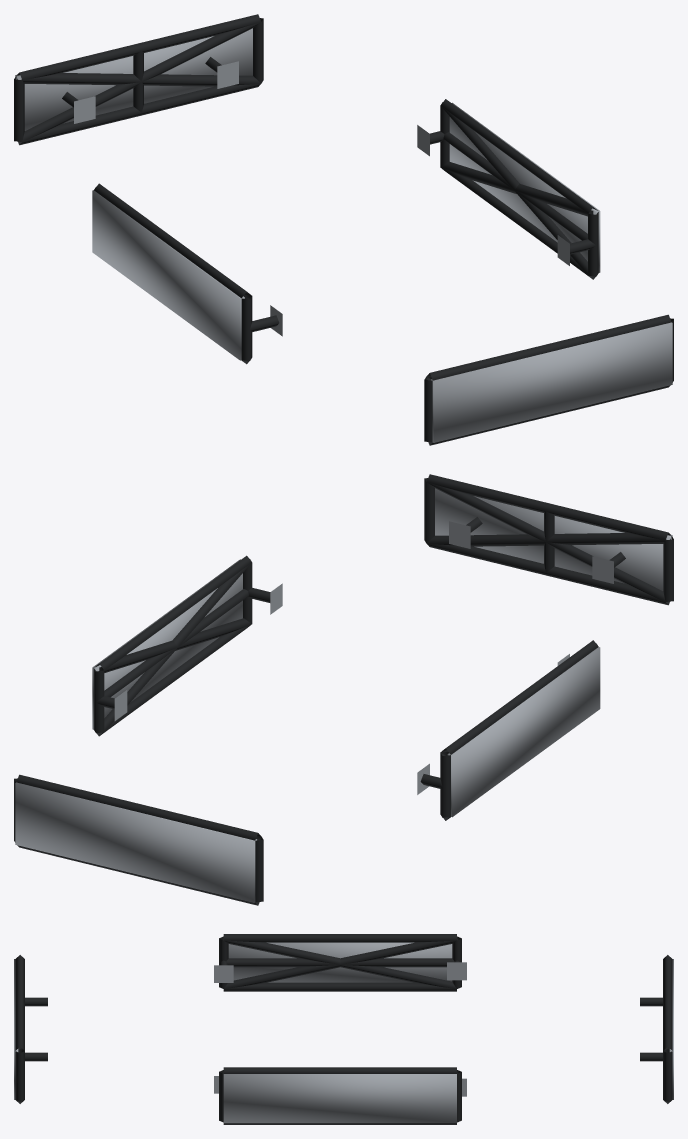
The model's file is hoshino_gomo_protecao.glb.
The picture shows the model from 3 angles, top to bottom: view 1: azimuth 30°, elevation 25°; view 2: azimuth 150°, elevation 25°; view 3: azimuth 270°, elevation 25°; orthographic projection. The views are drawn at different scales.
Visible parts, largest first — view 1: Protection_front_Level3_Details, Protection_left_Level3_Details, Protection_rear_Level1_Details, Protection_rear_Level3_Details, Protection_right_Level1_Details, Protection_rear_Level2_Details, Protection_right_Level2_Details, Protection_right_Level3_Details, Protection_front_Level1_Details, Protection_left_Level1_Details; view 2: Protection_rear_Level3_Details, Protection_left_Level3_Details, Protection_front_Level1_Details, Protection_front_Level3_Details, Protection_right_Level1_Details, Protection_front_Level2_Details, Protection_right_Level2_Details, Protection_right_Level3_Details, Protection_rear_Level1_Details, Protection_left_Level1_Details; view 3: Protection_right_Level3_Details, Protection_left_Level2_Details, Protection_left_Level1_Details, Protection_left_Level3_Details, Protection_right_Level1_Details, Protection_rear_Level1_Details, Protection_front_Level1_Details.
Part boxes in pixels (left/top/right/bottom): Protection_front_Level3_Details: left=430, top=322, right=672, bottom=442; Protection_left_Level3_Details: left=92, top=190, right=244, bottom=360; Protection_rear_Level1_Details: left=14, top=14, right=263, bottom=145; Protection_rear_Level3_Details: left=15, top=28, right=252, bottom=130; Protection_right_Level1_Details: left=417, top=99, right=598, bottom=279; Protection_rear_Level2_Details: left=16, top=22, right=260, bottom=143; Protection_right_Level2_Details: left=440, top=106, right=597, bottom=278; Protection_right_Level3_Details: left=449, top=102, right=600, bottom=272; Protection_front_Level1_Details: left=424, top=314, right=673, bottom=445; Protection_left_Level1_Details: left=94, top=183, right=282, bottom=364; Protection_rear_Level3_Details: left=15, top=782, right=257, bottom=902; Protection_left_Level3_Details: left=447, top=647, right=600, bottom=817; Protection_front_Level1_Details: left=424, top=474, right=673, bottom=605; Protection_front_Level3_Details: left=435, top=488, right=672, bottom=590; Protection_right_Level1_Details: left=93, top=555, right=282, bottom=736; Protection_front_Level2_Details: left=427, top=482, right=671, bottom=603; Protection_right_Level2_Details: left=94, top=563, right=251, bottom=735; Protection_right_Level3_Details: left=92, top=559, right=242, bottom=729; Protection_rear_Level1_Details: left=14, top=774, right=263, bottom=905; Protection_left_Level1_Details: left=417, top=640, right=598, bottom=820; Protection_right_Level3_Details: left=223, top=1074, right=456, bottom=1123; Protection_left_Level2_Details: left=223, top=937, right=457, bottom=988; Protection_left_Level1_Details: left=214, top=934, right=466, bottom=991; Protection_left_Level3_Details: left=228, top=942, right=452, bottom=982; Protection_right_Level1_Details: left=214, top=1067, right=466, bottom=1124; Protection_rear_Level1_Details: left=640, top=955, right=672, bottom=1103; Protection_front_Level1_Details: left=15, top=955, right=47, bottom=1103.
Bounding box in the file's own units: 1.83 × 0.354 × 3.68.
1 material, 1 textured.
